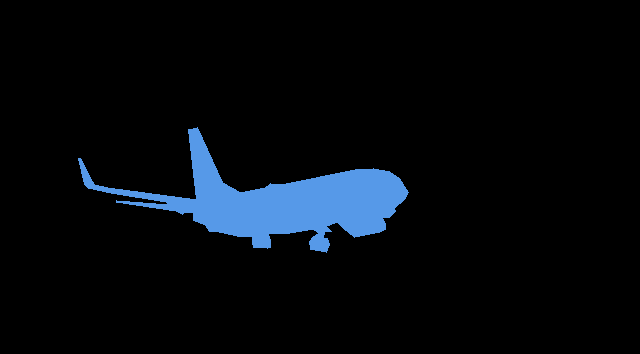Airplane: (78, 127, 408, 252)
